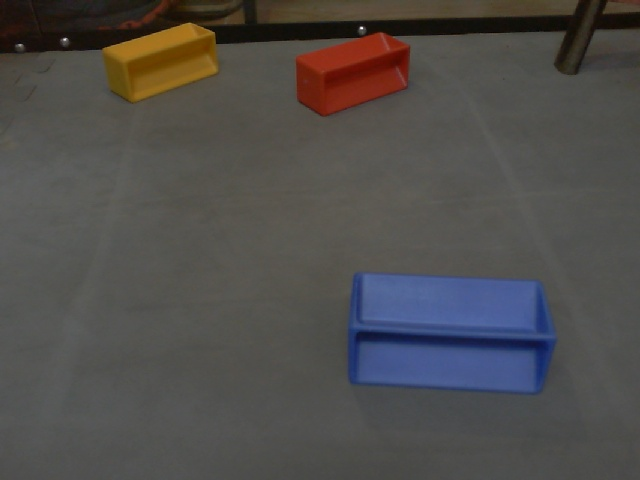BlueSample: (347, 269, 558, 397)
RedSample: (295, 32, 411, 117)
YellowSample: (101, 20, 217, 104)
